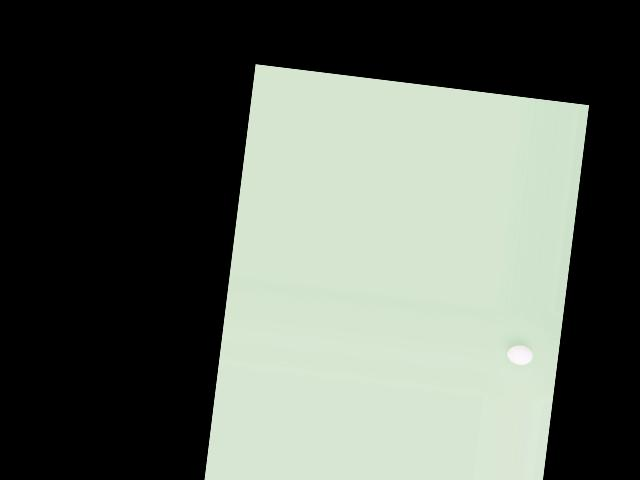egg: (506, 343, 534, 366)
